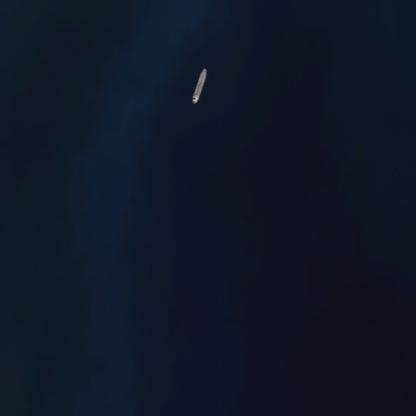ship: (171, 58, 226, 109)
